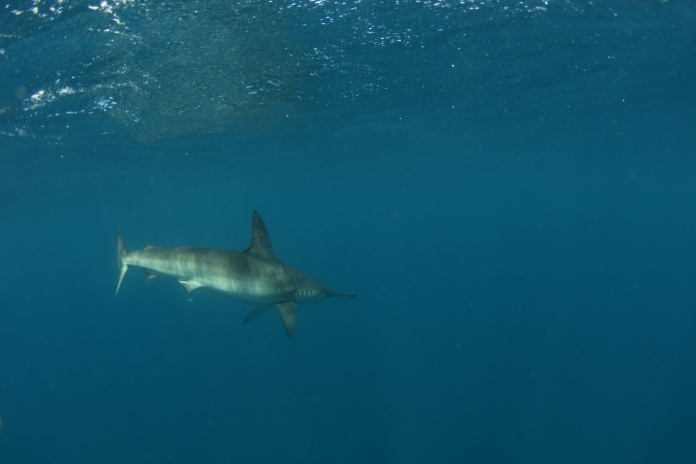Hammer: (87, 200, 369, 360)
